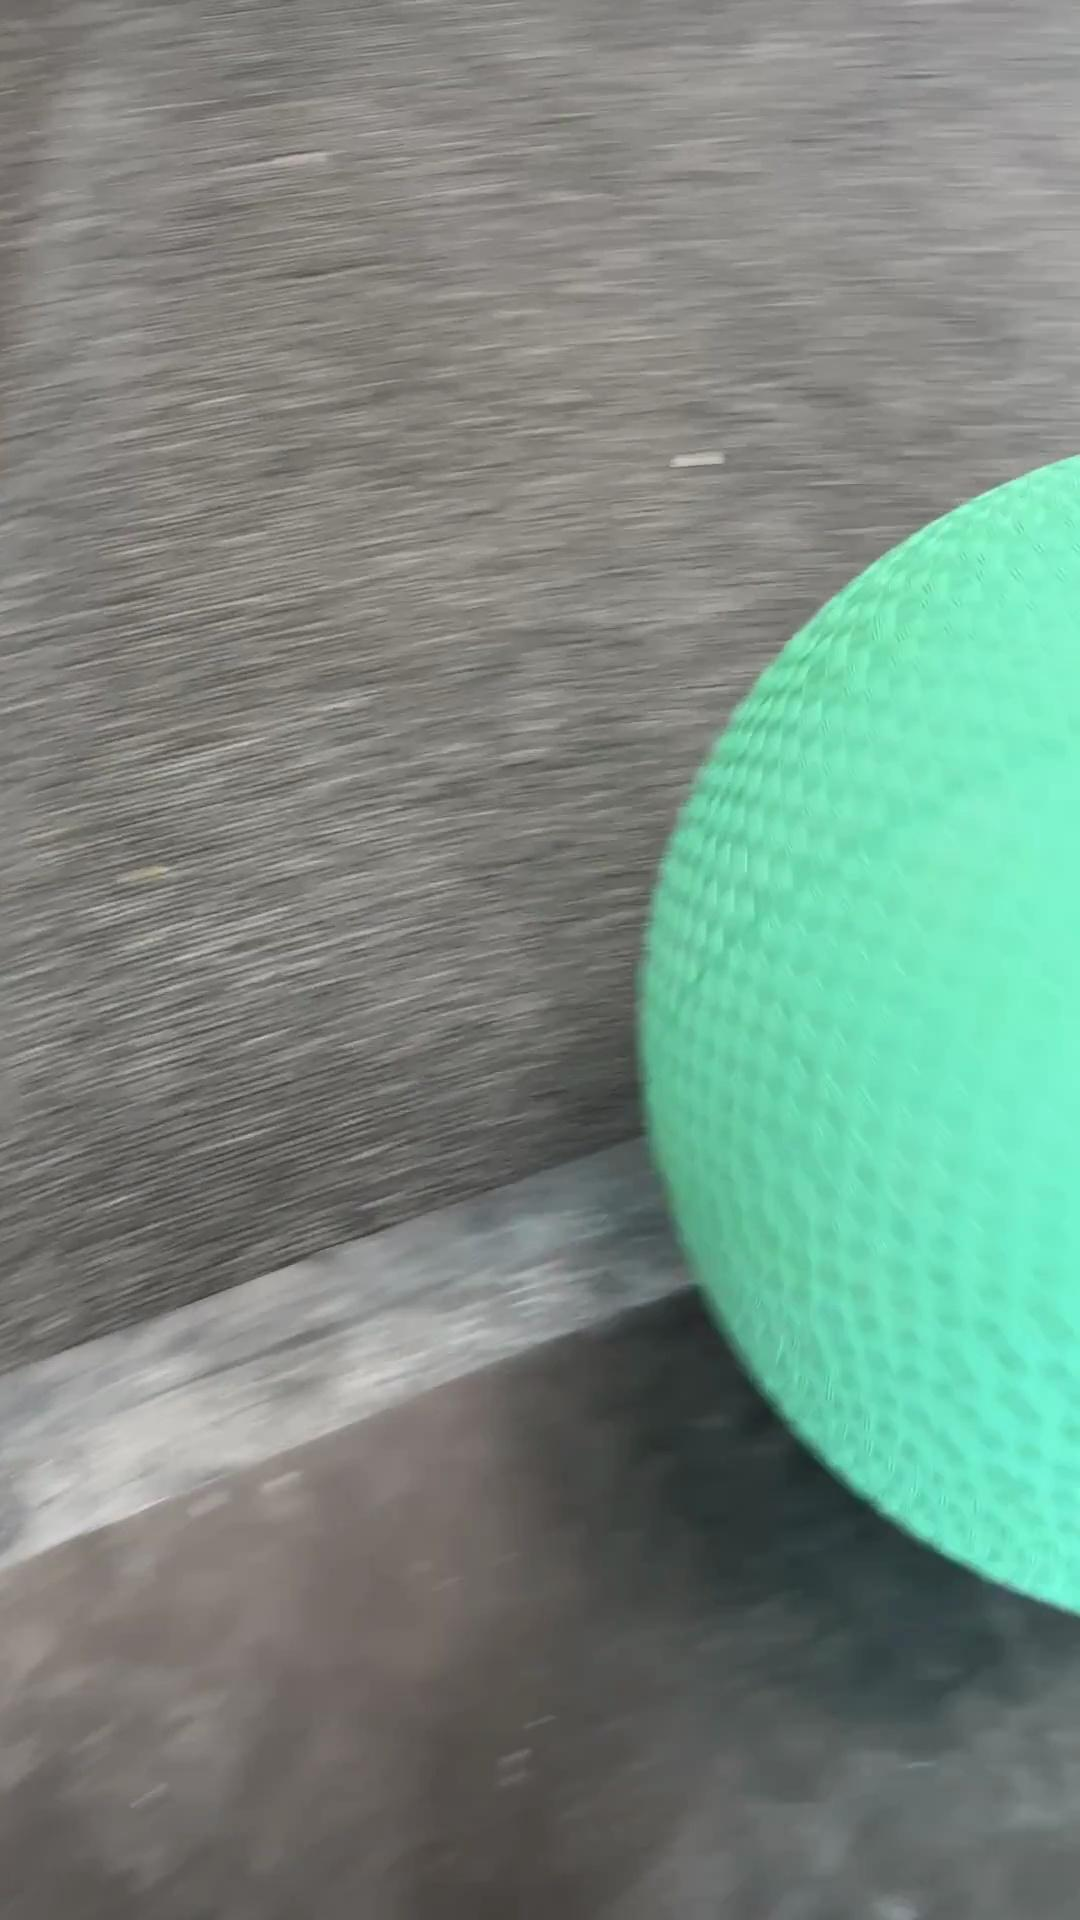ALGAE: (633, 450, 1077, 1617)
